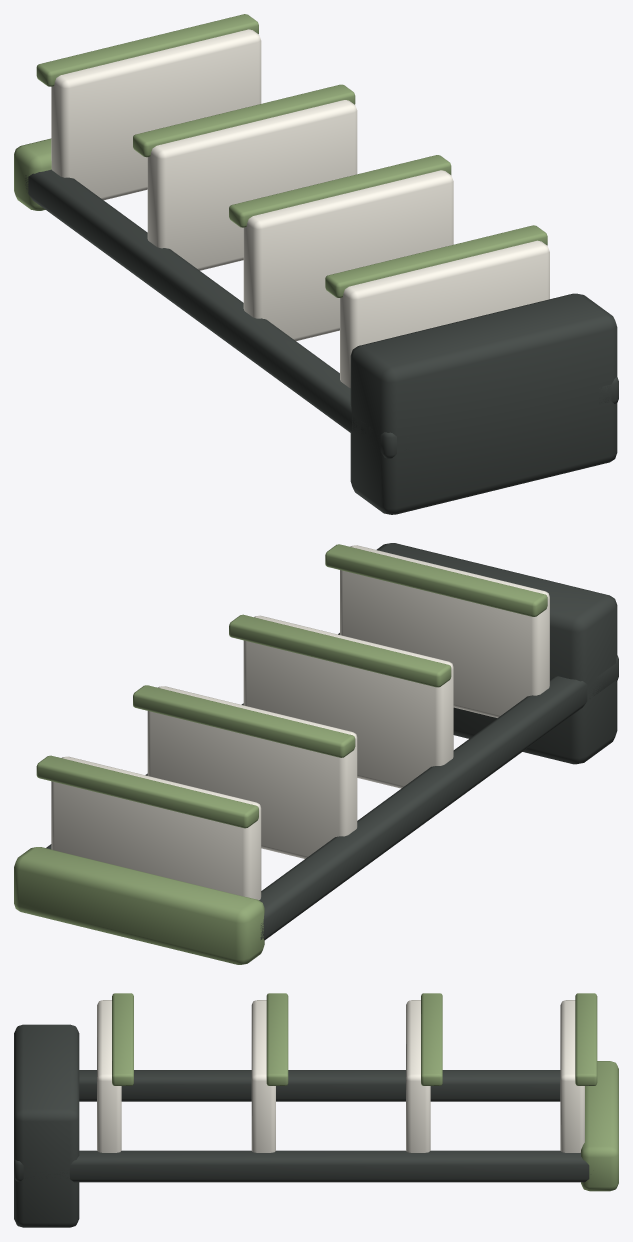
Rendered from shelf_endcap.glb.
3 views of the same model, one above another, from view 1: azimuth 30°, elevation 25°; view 2: azimuth 150°, elevation 25°; view 3: azimuth 270°, elevation 25° (orthographic). The views are drawn at different scales.
Visible parts, largest first — view 1: Base, Shelf.003, Shelf.001, Shelf.002, Post, Shelf, Trim, Trim.001, Trim.003, Trim.002, Header; view 2: Shelf.001, Shelf.002, Shelf, Header, Post, Shelf.003, Base, Trim.001, Trim.003, Trim, Trim.002; view 3: Post.001, Base, Post, Header, Shelf.001, Shelf.003, Shelf.002, Shelf, Trim.001, Trim.003, Trim, Trim.002.
Boxes of the visible parts, x1=… form: Base: x1=350, y1=293, x2=617, y2=514; Shelf.003: x1=51, y1=29, x2=261, y2=200; Shelf.001: x1=243, y1=170, x2=453, y2=340; Shelf.002: x1=147, y1=100, x2=357, y2=270; Post: x1=25, y1=169, x2=406, y2=458; Shelf: x1=340, y1=240, x2=549, y2=387; Trim: x1=325, y1=225, x2=547, y2=297; Trim.001: x1=229, y1=155, x2=451, y2=227; Trim.003: x1=36, y1=14, x2=258, y2=86; Trim.002: x1=133, y1=84, x2=355, y2=157; Header: x1=14, y1=138, x2=51, y2=210; Shelf.001: x1=243, y1=615, x2=453, y2=788; Shelf.002: x1=147, y1=686, x2=357, y2=858; Shelf: x1=340, y1=545, x2=549, y2=717; Header: x1=14, y1=847, x2=264, y2=964; Post: x1=259, y1=655, x2=618, y2=940; Shelf.003: x1=51, y1=756, x2=261, y2=899; Base: x1=376, y1=543, x2=617, y2=764; Trim.001: x1=229, y1=614, x2=451, y2=687; Trim.003: x1=36, y1=755, x2=258, y2=828; Trim: x1=325, y1=544, x2=547, y2=616; Trim.002: x1=133, y1=685, x2=355, y2=757; Post.001: x1=14, y1=1150, x2=589, y2=1182; Base: x1=14, y1=1024, x2=79, y2=1227; Post: x1=79, y1=1070, x2=560, y2=1101; Header: x1=581, y1=1061, x2=618, y2=1191; Shelf.001: x1=251, y1=1000, x2=275, y2=1152; Shelf.003: x1=560, y1=1000, x2=584, y2=1152; Shelf.002: x1=406, y1=1000, x2=430, y2=1152; Shelf: x1=97, y1=1000, x2=121, y2=1152; Trim.001: x1=266, y1=993, x2=288, y2=1085; Trim.003: x1=575, y1=993, x2=597, y2=1085; Trim: x1=112, y1=993, x2=133, y2=1085; Trim.002: x1=421, y1=993, x2=442, y2=1085.
Size of the model in its own units: 0.8 by 0.615 by 2.22.
